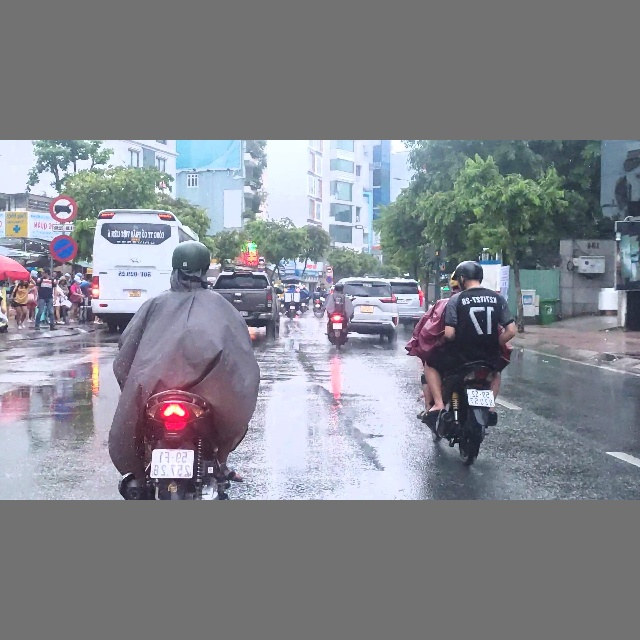P.106a*Xe tai: (49, 195, 78, 223), (257, 255, 266, 265), (326, 266, 332, 273)
P.131a: (49, 232, 78, 263), (326, 276, 332, 283)
